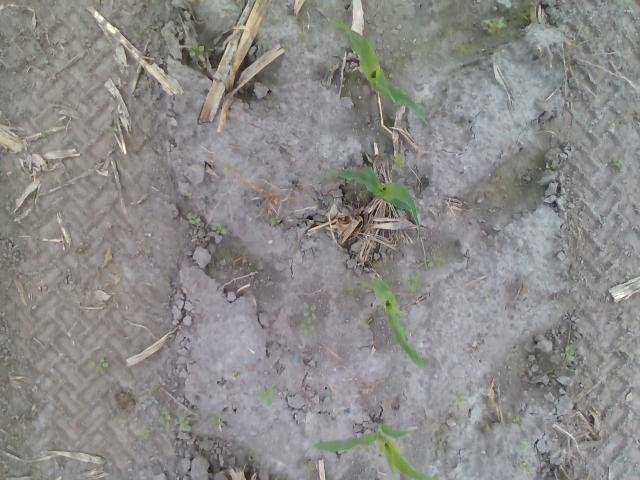Maize: (319, 17, 430, 124), (313, 167, 424, 233), (352, 276, 426, 371), (312, 425, 438, 480)
Weeds: (253, 384, 276, 404), (88, 356, 109, 374), (482, 16, 504, 33), (402, 274, 420, 292), (389, 153, 406, 170), (427, 254, 446, 268), (176, 416, 192, 432), (190, 45, 206, 61), (302, 302, 316, 320), (300, 318, 314, 336), (560, 345, 576, 360), (158, 411, 172, 428), (452, 390, 467, 404), (211, 222, 226, 236), (211, 412, 224, 426), (518, 438, 530, 452), (187, 212, 200, 224), (612, 156, 624, 168), (38, 130, 48, 144), (546, 162, 558, 172), (139, 428, 151, 438), (608, 117, 622, 125), (270, 215, 280, 226), (274, 473, 287, 480), (105, 126, 118, 132), (133, 30, 142, 38), (524, 465, 532, 474), (322, 3, 332, 10), (512, 416, 520, 424), (410, 94, 420, 100), (233, 370, 240, 378), (276, 104, 281, 113)
